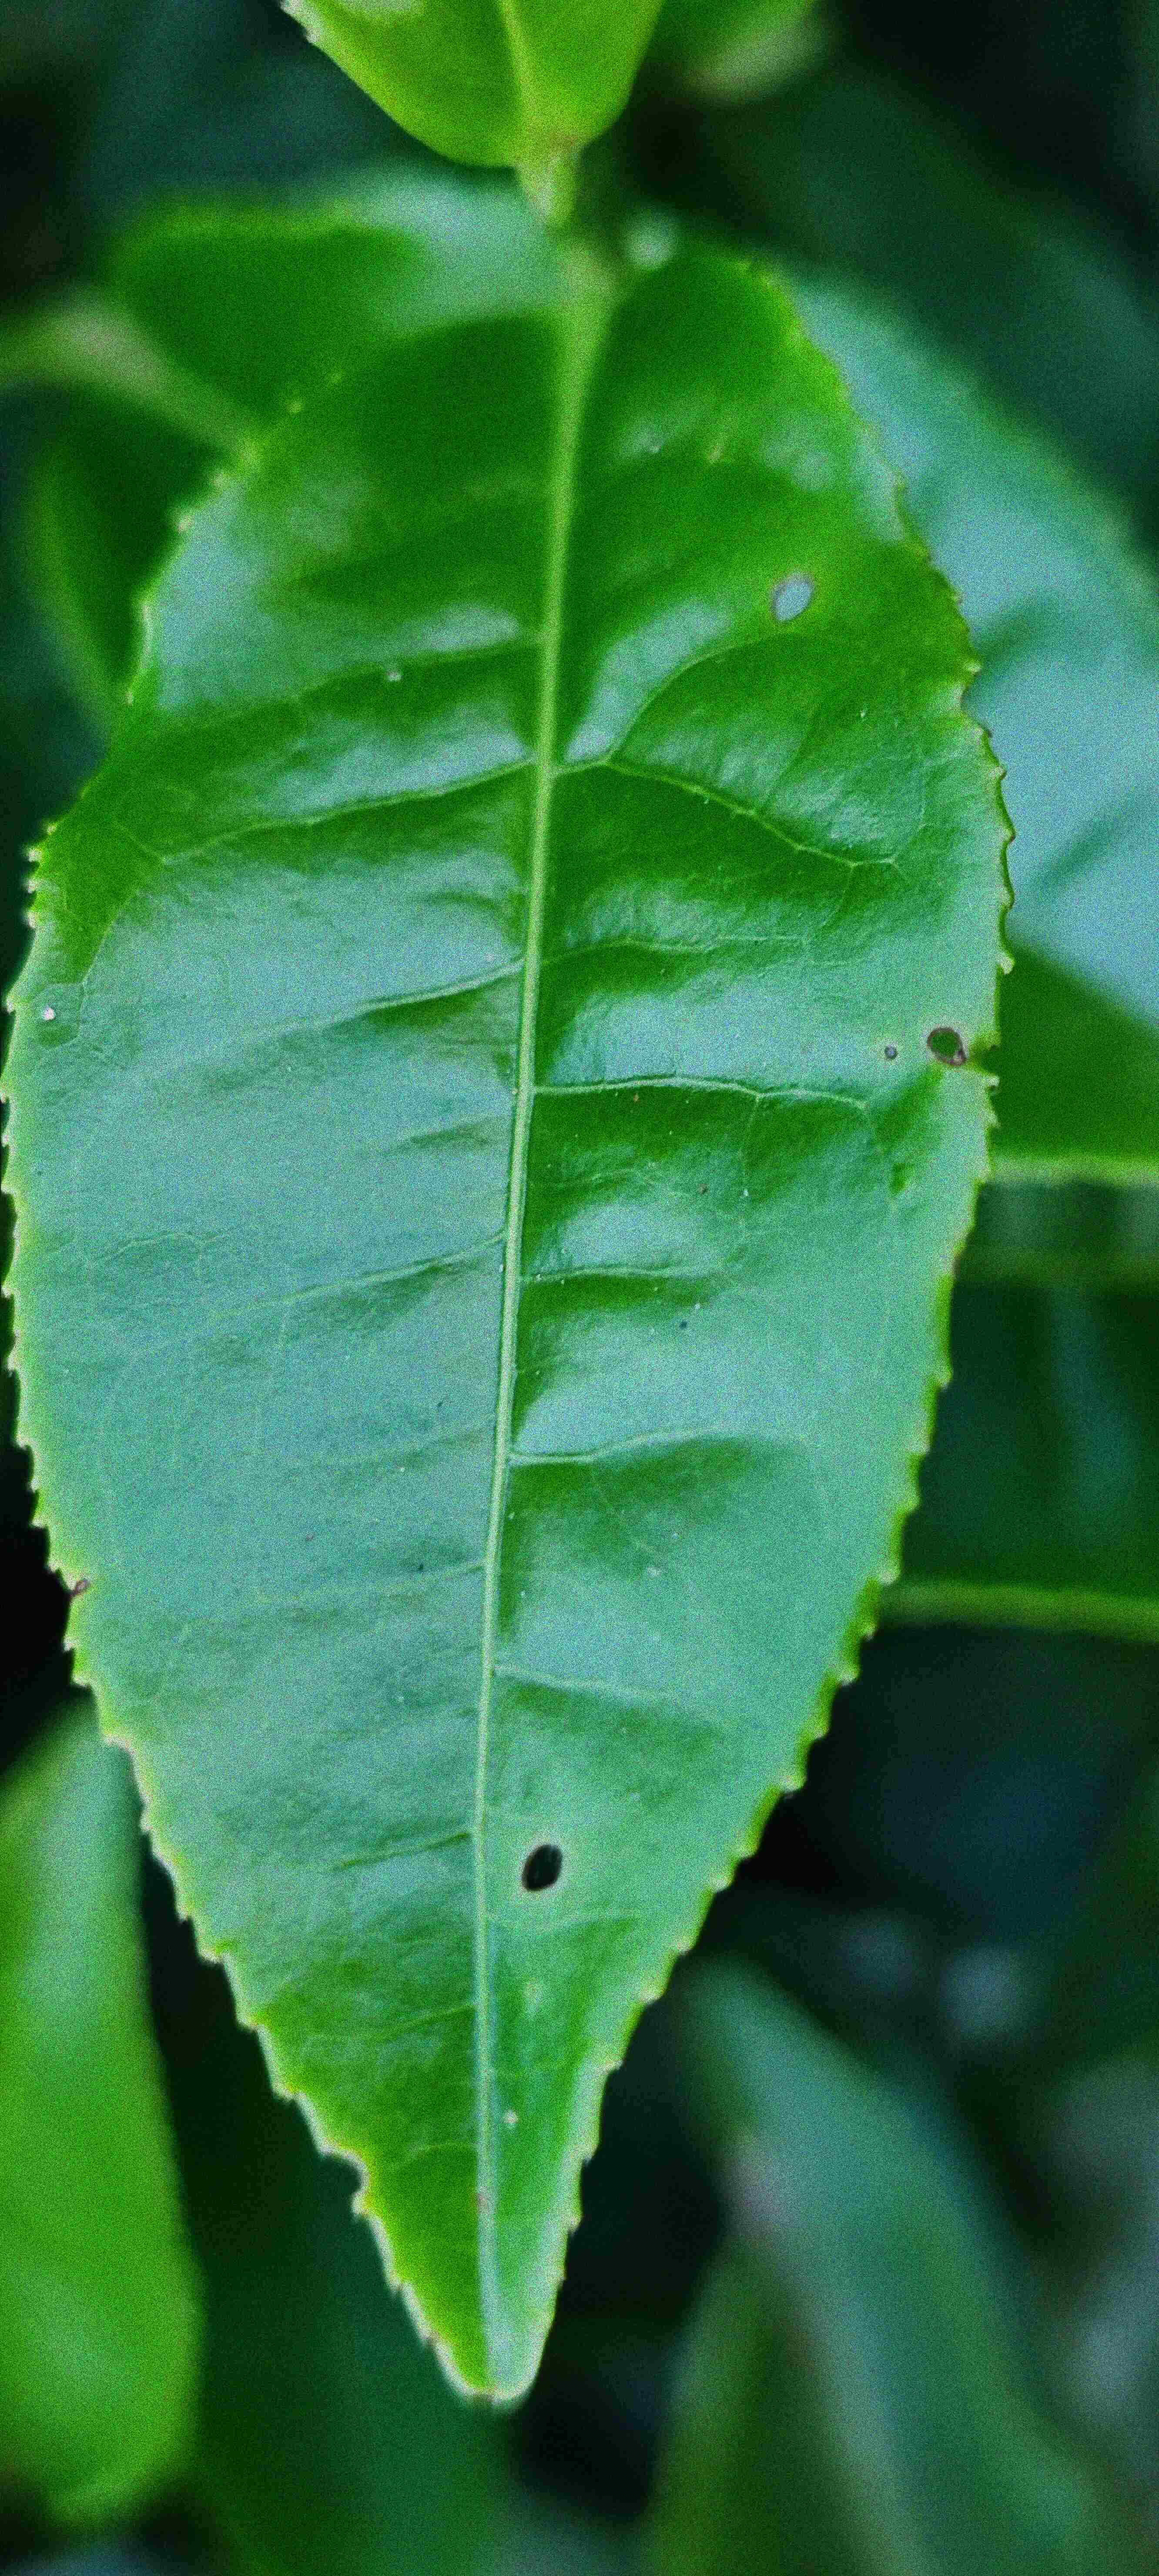chihuo_high: (5, 255, 1018, 2405)
